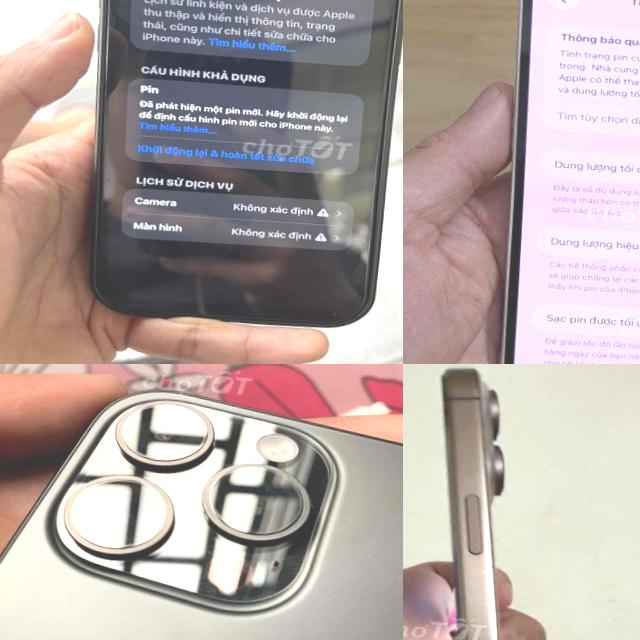gen_12_13: (67, 0, 403, 343)
gen_14: (471, 0, 640, 364)
gen_16: (0, 371, 403, 640), (403, 364, 580, 640)
